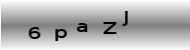6: (28, 26, 40, 40)
J: (121, 10, 130, 27)
Z: (102, 20, 117, 35)
a: (76, 22, 88, 33)
p: (53, 28, 67, 41)
